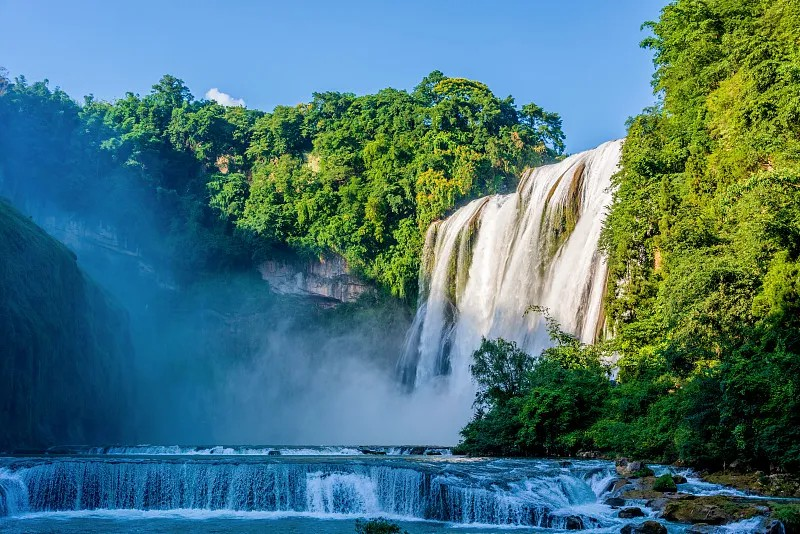Huangguoshu: (398, 139, 617, 394)
